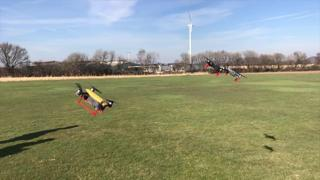UAV: (74, 82, 118, 116), (203, 56, 224, 77), (223, 66, 248, 82)
